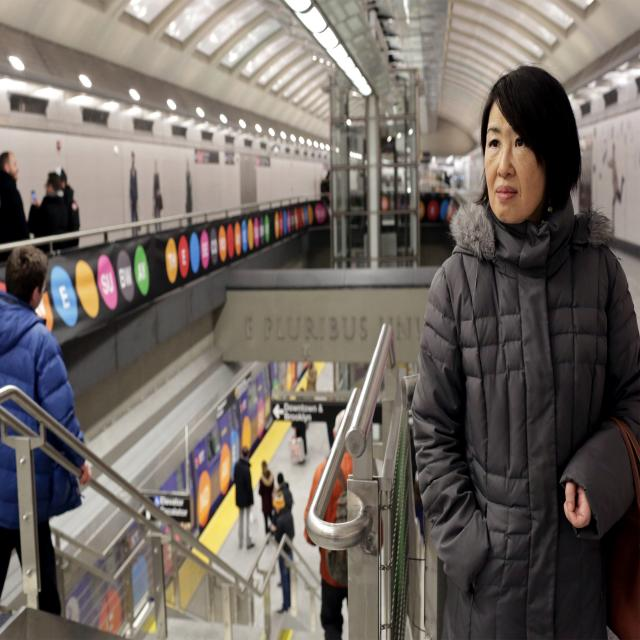body: (408, 58, 640, 640), (0, 241, 91, 621), (303, 408, 352, 640), (27, 171, 70, 256), (0, 151, 27, 284), (272, 492, 294, 613), (604, 140, 630, 240), (233, 445, 255, 551), (121, 151, 142, 239), (148, 158, 165, 240), (180, 156, 196, 232), (259, 461, 274, 534), (54, 166, 76, 204), (276, 472, 294, 513), (292, 420, 308, 464), (321, 167, 332, 222), (306, 359, 316, 392)
